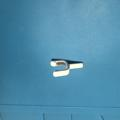u-shape: (49, 58, 84, 79)
